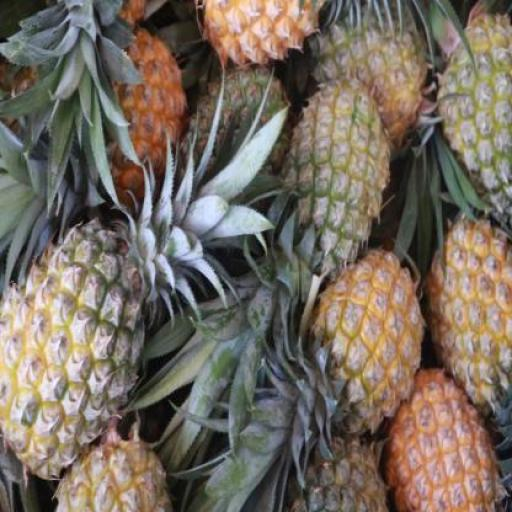------------------------------: (0, 225, 145, 472), (286, 83, 392, 278), (314, 0, 432, 143), (434, 14, 511, 228)
Pineapple - v8 v1: (316, 255, 422, 439), (422, 222, 511, 412), (389, 365, 502, 511)
